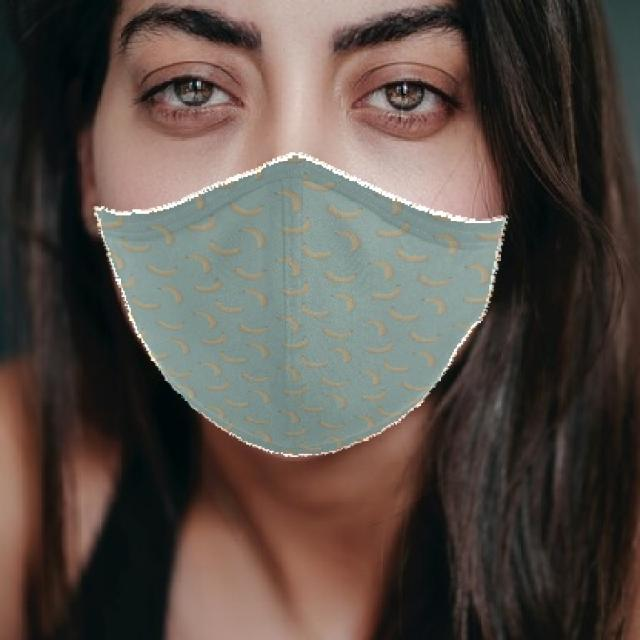mask: (84, 150, 529, 476)
